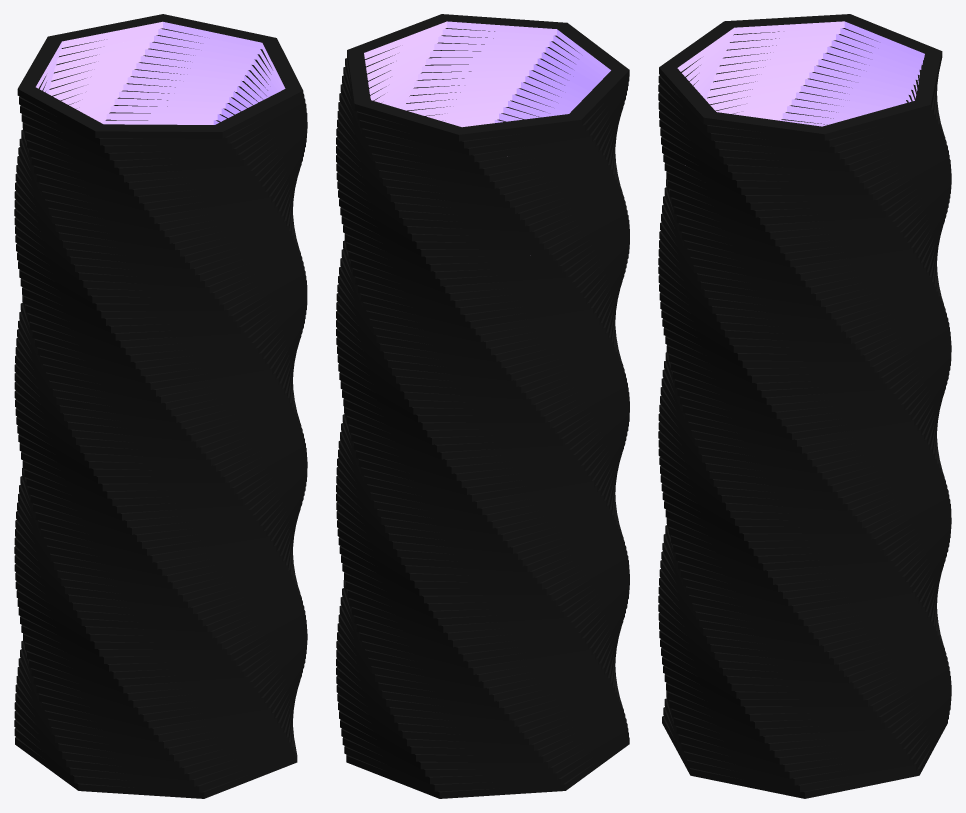
File: twistytunnel.fbx
The picture shows the model from 3 angles, left to right: view 1: azimuth 30°, elevation 25°; view 2: azimuth 150°, elevation 25°; view 3: azimuth 270°, elevation 25°; orthographic projection.
Parts seen in each view (by area): view 1: Tube_0_1; view 2: Tube_0_1; view 3: Tube_0_1.
Part boxes in pixels (left/top/right/bottom): Tube_0_1: left=14, top=14, right=307, bottom=798; Tube_0_1: left=336, top=14, right=629, bottom=798; Tube_0_1: left=658, top=14, right=951, bottom=798.
Size of the model in its own units: 4000 by 10000 by 4000.
